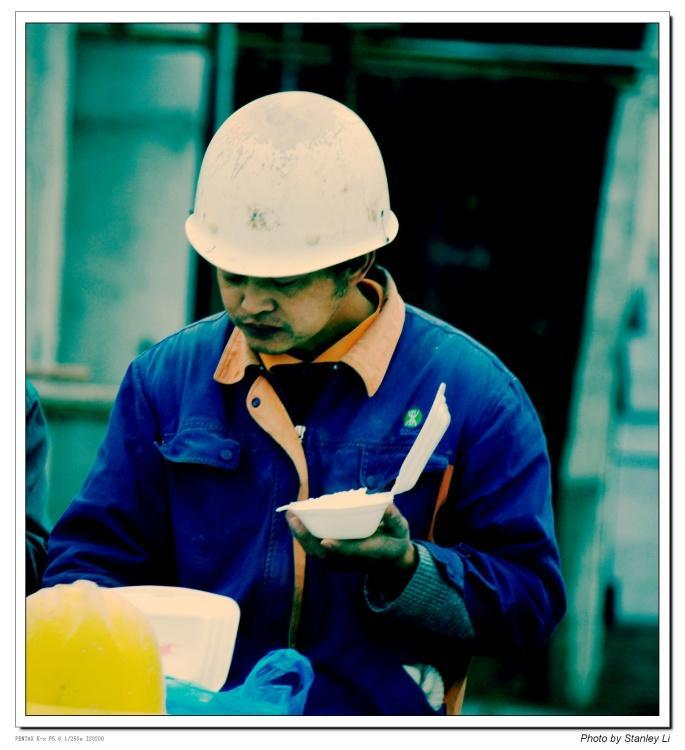helmet: (181, 94, 403, 284)
no-vest: (114, 336, 542, 714)
person: (103, 96, 549, 707)
